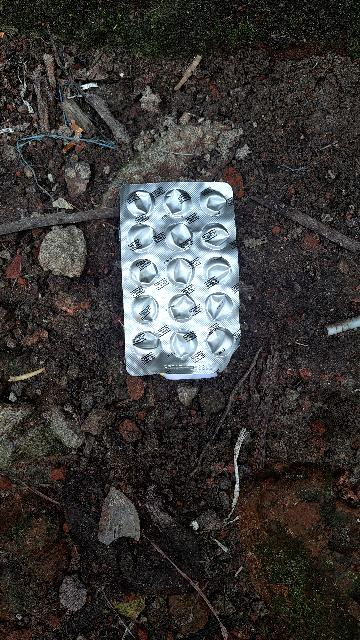medicine: (116, 168, 245, 393)
